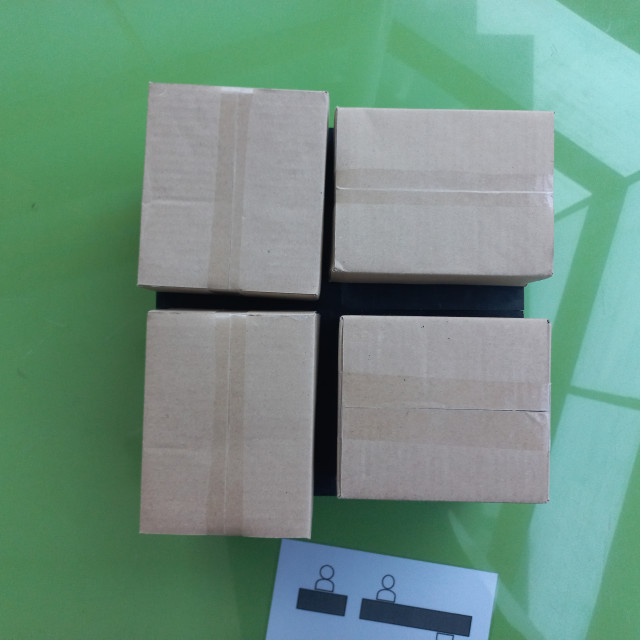box: (313, 340, 460, 562), (320, 101, 458, 333), (143, 354, 314, 534), (146, 134, 306, 326)
